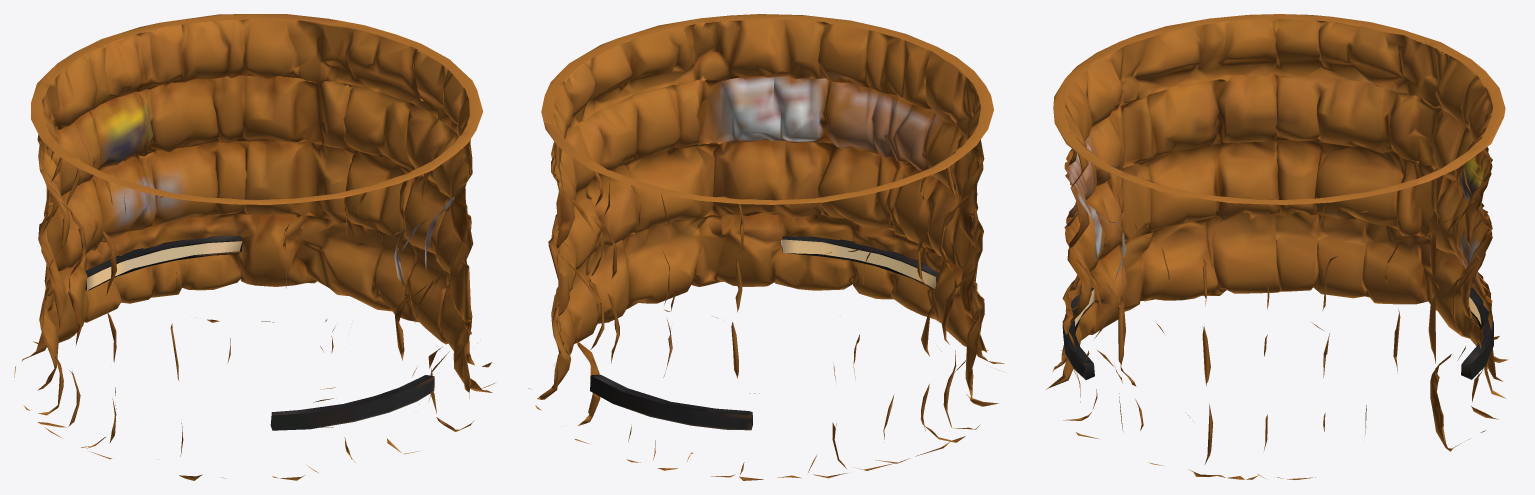
Rendered from SM_Pillows01.gltf.
3 renders of one model, left to right at view 1: azimuth 30°, elevation 25°; view 2: azimuth 150°, elevation 25°; view 3: azimuth 270°, elevation 25°, orthographic.
Parts seen in each view (by area): view 1: SM_Pillows01; view 2: SM_Pillows01; view 3: SM_Pillows01.
Boxes of the visible parts, x1,y1,x2,y2 form: SM_Pillows01: (14, 14, 495, 480); SM_Pillows01: (528, 14, 1004, 480); SM_Pillows01: (1046, 14, 1508, 479).
Bounding box in the file's own units: 2.18 × 1.38 × 2.18.
1 material, 1 textured.
